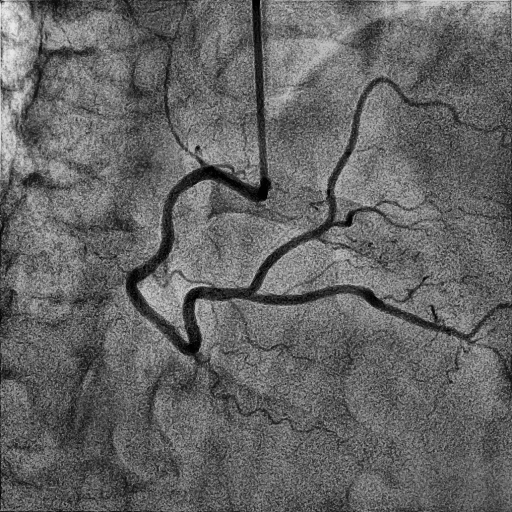pborca: (248, 77, 458, 292)
pda: (246, 285, 511, 340)
rca: (125, 164, 263, 356)
